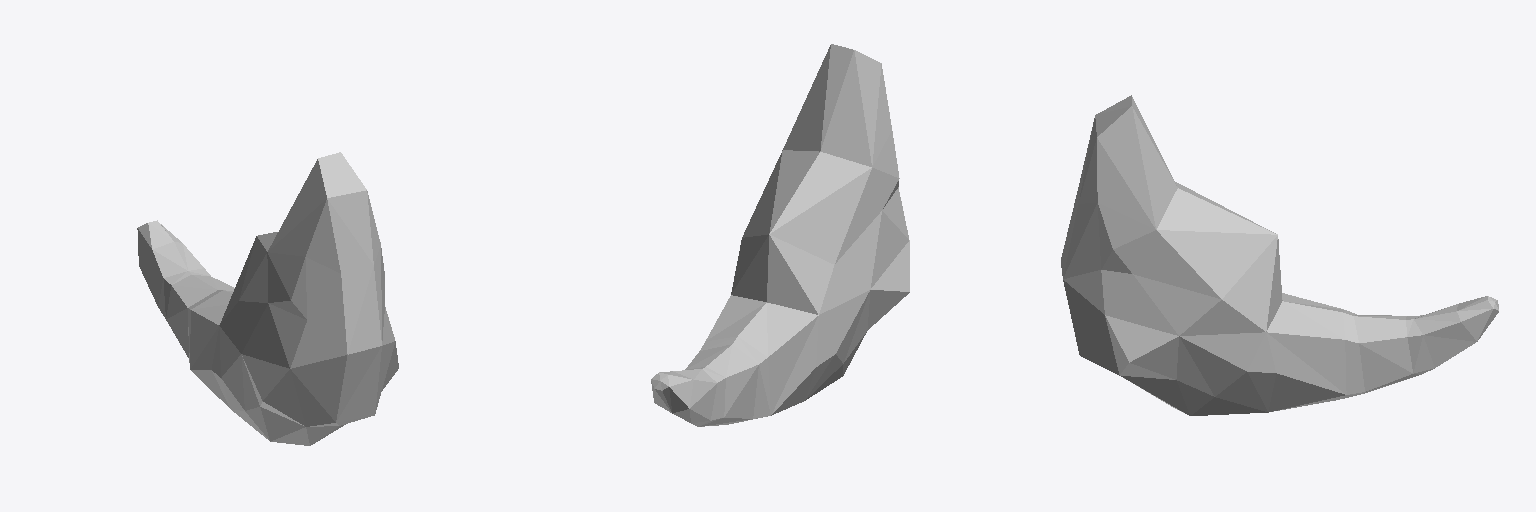
3 renders of one model, left to right at view 1: azimuth 30°, elevation 25°; view 2: azimuth 150°, elevation 25°; view 3: azimuth 270°, elevation 25°, orthographic.
Parts seen in each view (by area): view 1: body_col_collmesh; view 2: body_col_collmesh; view 3: body_col_collmesh.
Part boxes in pixels (left/top/right/bottom): body_col_collmesh: left=137, top=152, right=398, bottom=445; body_col_collmesh: left=651, top=44, right=909, bottom=426; body_col_collmesh: left=1061, top=95, right=1498, bottom=415.
Size of the model in its own units: 2.79 by 6.11 by 7.82.